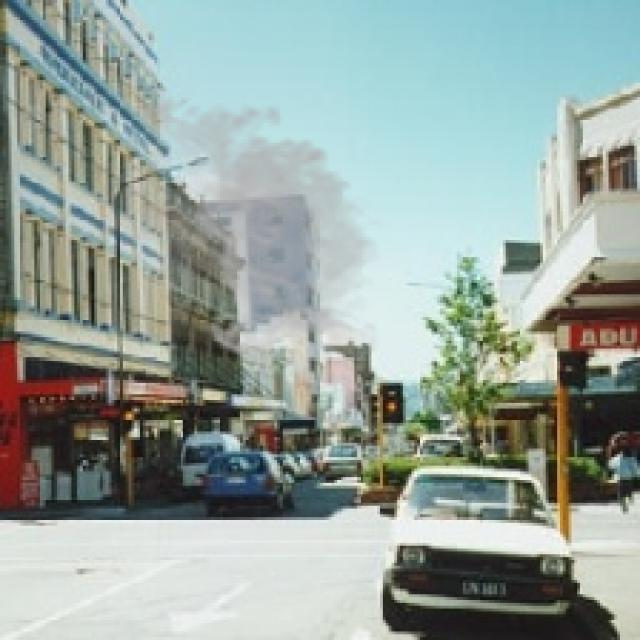Smoke: (108, 88, 383, 360)
